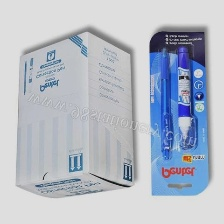book: (11, 28, 138, 201), (148, 29, 211, 198)
correction_fluid: (176, 45, 198, 151)
